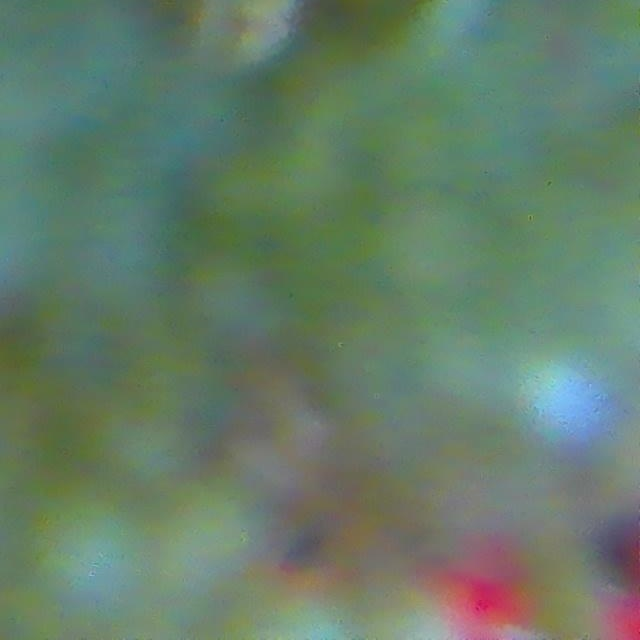SeaGrape: (16, 481, 143, 611), (504, 337, 625, 461), (151, 471, 275, 591)
